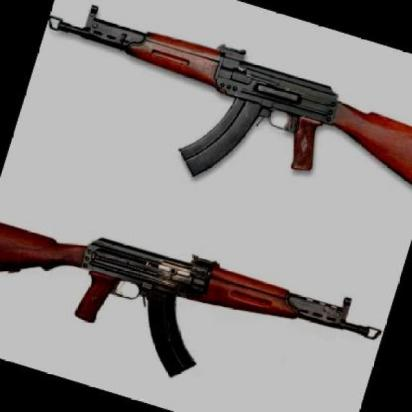Gun: (0, 160, 394, 412), (18, 0, 412, 230)
